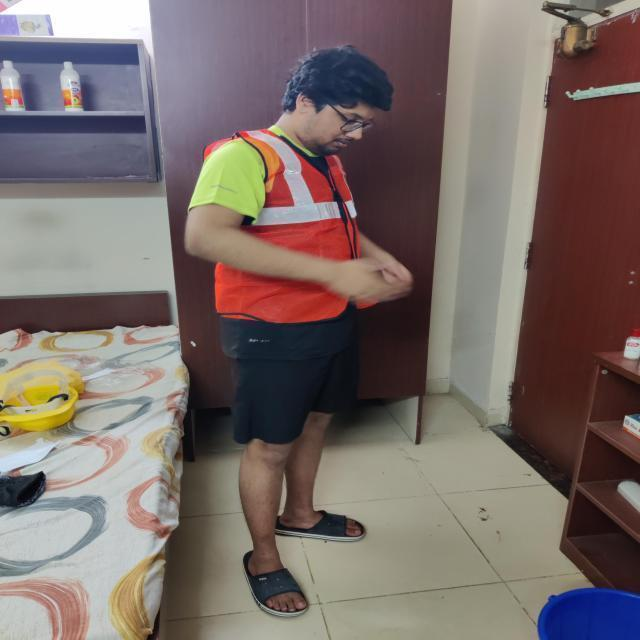no-helmet: (284, 43, 396, 128)
vest: (201, 132, 367, 326)
